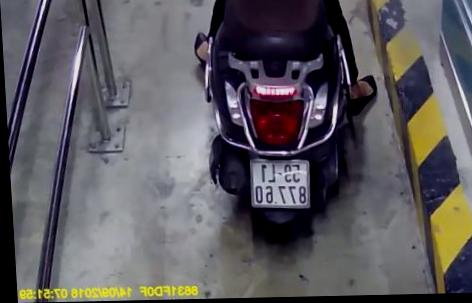License_Plate: (243, 155, 320, 213)
